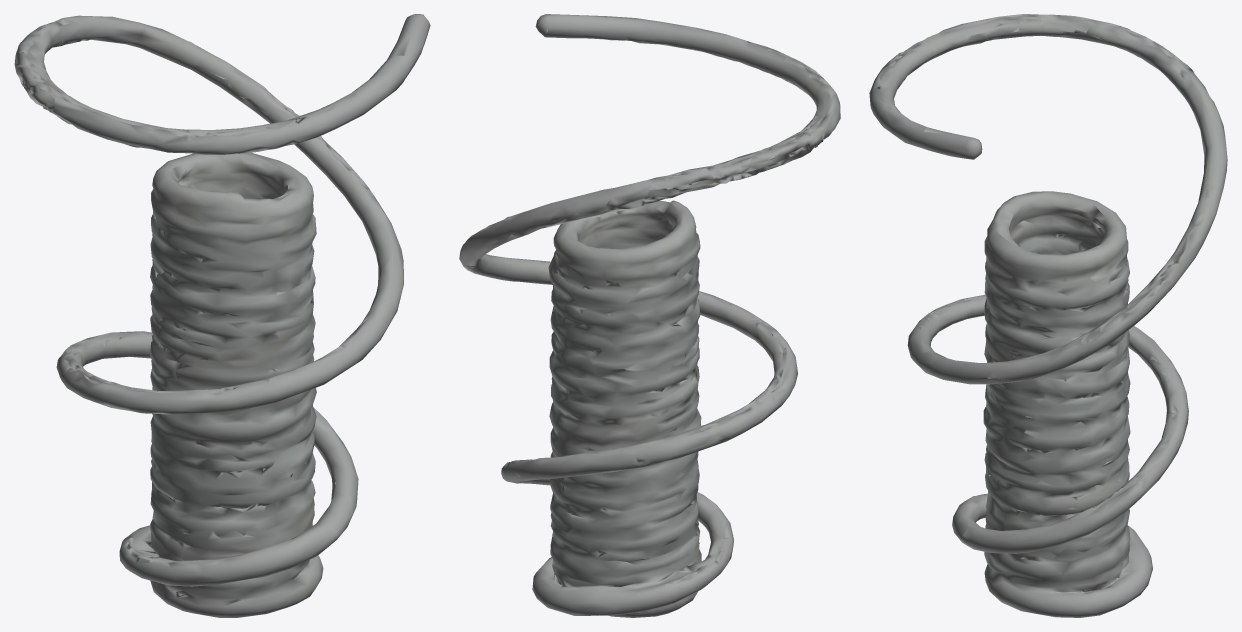
Rendered from 03_3_gj_vase.glb.
The picture shows the model from 3 angles, left to right: view 1: azimuth 30°, elevation 25°; view 2: azimuth 150°, elevation 25°; view 3: azimuth 270°, elevation 25°; orthographic projection. The views are drawn at different scales.
Parts seen in each view (by area): view 1: tripo_material_0723ee42-0cdc-46ad-8dcc-2bfaf66597dc; view 2: tripo_material_0723ee42-0cdc-46ad-8dcc-2bfaf66597dc; view 3: tripo_material_0723ee42-0cdc-46ad-8dcc-2bfaf66597dc.
Boxes of the visible parts, left/top/right/bottom form: tripo_material_0723ee42-0cdc-46ad-8dcc-2bfaf66597dc: left=14, top=14, right=430, bottom=617; tripo_material_0723ee42-0cdc-46ad-8dcc-2bfaf66597dc: left=459, top=14, right=840, bottom=617; tripo_material_0723ee42-0cdc-46ad-8dcc-2bfaf66597dc: left=869, top=14, right=1227, bottom=617.
Size of the model in its own units: 0.1969 by 0.3 by 0.1928.
1 material, 1 textured.
